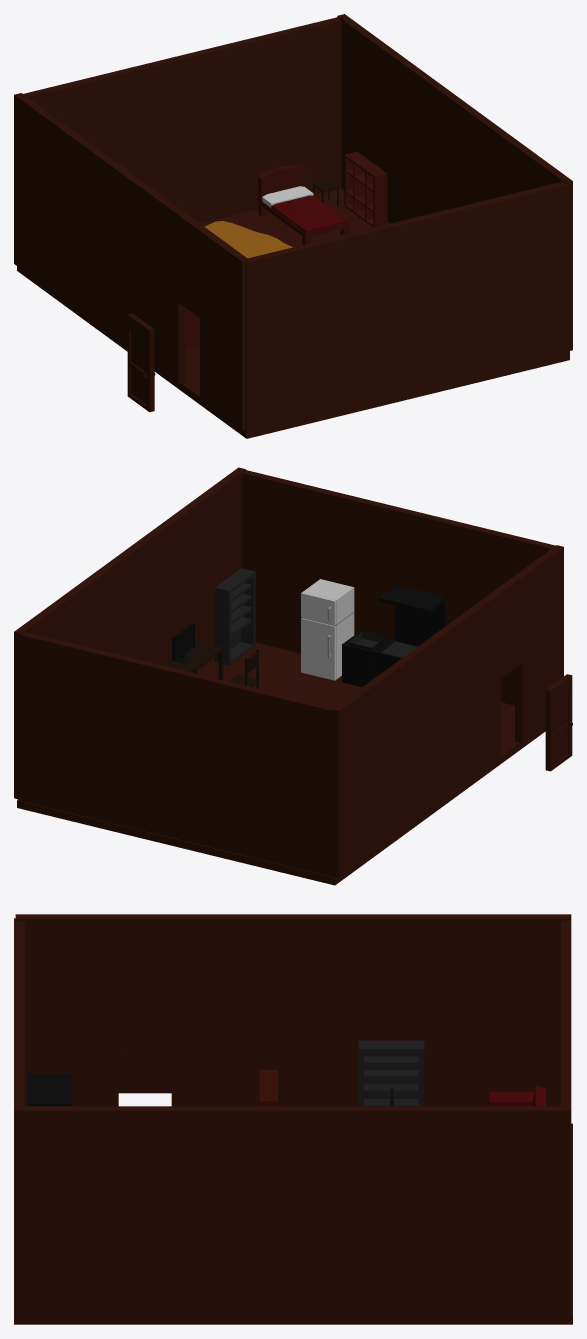
The model's file is Huis van binnen in kleur.FBX.
3 views of the same model, one above another, from view 1: azimuth 30°, elevation 25°; view 2: azimuth 150°, elevation 25°; view 3: azimuth 270°, elevation 25° (orthographic). The views are drawn at different scales.
Visible parts, largest first — view 1: polySurface38, polySurface33, polySurface39, polySurface34, polySurface35, polySurface23, polySurface22, pCube18, polySurface28; view 2: polySurface39, polySurface33, polySurface38, polySurface34, polySurface35, polySurface21, polySurface25, polySurface27, pCube18, polySurface32, polySurface24; view 3: polySurface34, polySurface33, polySurface35, polySurface26, pCube18, polySurface38, polySurface39, polySurface21, polySurface30, polySurface31.
Part boxes in pixels (x1,y1,x2,y2): polySurface38: (245, 182, 569, 431); polySurface33: (14, 93, 249, 430); polySurface39: (23, 17, 342, 223); polySurface34: (337, 14, 572, 350); polySurface35: (17, 189, 569, 438); polySurface23: (258, 165, 349, 244); polySurface22: (344, 151, 387, 227); pCube18: (127, 313, 155, 412); polySurface28: (204, 221, 292, 258); polySurface39: (17, 632, 336, 877); polySurface33: (332, 545, 563, 877); polySurface38: (242, 470, 555, 705); polySurface34: (14, 467, 245, 798); polySurface35: (17, 642, 545, 885); polySurface21: (342, 585, 446, 687); polySurface25: (301, 579, 354, 680); polySurface27: (214, 568, 255, 665); pCube18: (545, 674, 572, 771); polySurface32: (162, 641, 223, 679); polySurface24: (172, 623, 194, 663); polySurface34: (15, 1106, 571, 1316); polySurface33: (15, 914, 571, 1106); polySurface35: (14, 1123, 572, 1324); polySurface26: (358, 1040, 424, 1106); pCube18: (118, 1025, 171, 1093); polySurface38: (14, 918, 24, 1315); polySurface39: (561, 920, 571, 1106); polySurface21: (27, 1074, 72, 1106); polySurface30: (489, 1086, 545, 1106); polySurface31: (259, 1070, 277, 1106).
Bounding box in the file's own units: 9.98 × 4.52 × 10.34.
